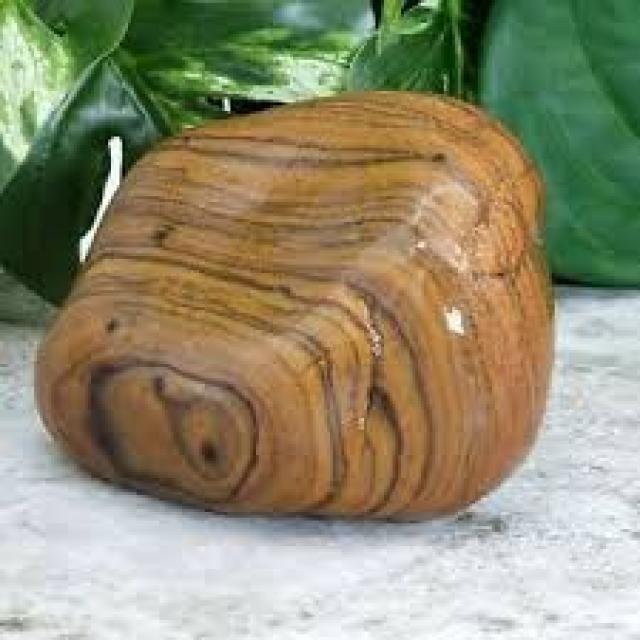Metamorphic: (48, 91, 572, 523)
